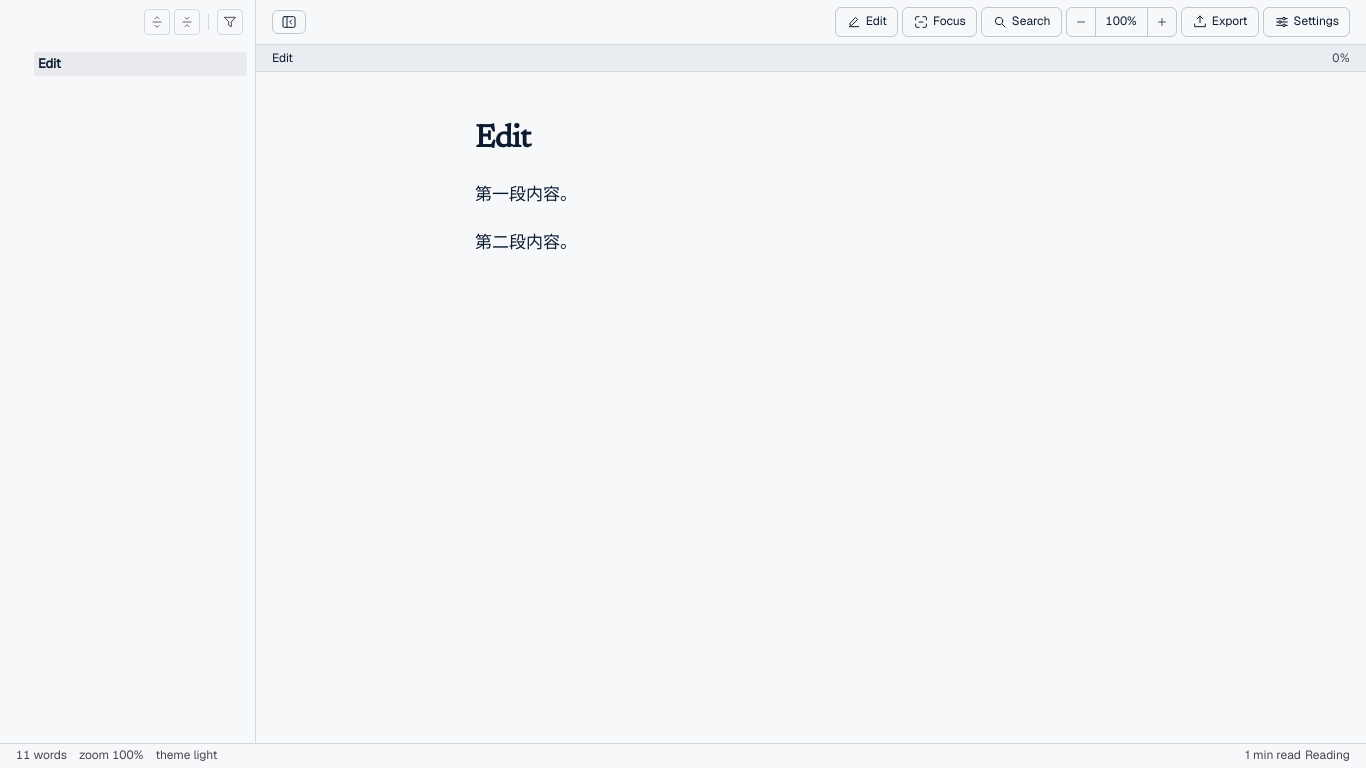
Test case: 编辑手册入口（§7.5） › 活动单元的焦点交给手册：不算离开，不发出提交（§7.4 focusout 是提交）
Later steps or results of the test are not shown.
Click the button with aria-label "Edit mode".
click(866, 22)  # box [835,7,898,37]
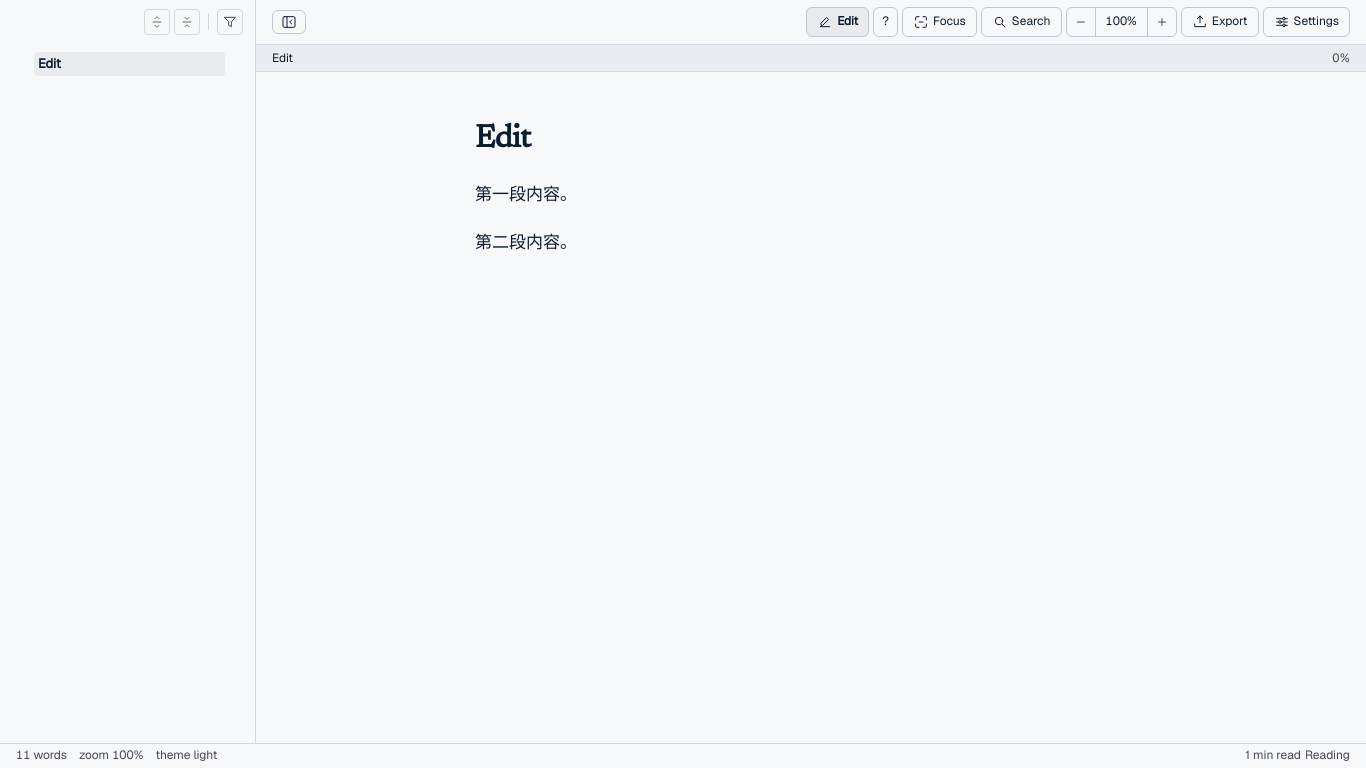
Double-click the text with class "readora-paragraph" showing "第一段内容。".
double_click(526, 194)  # box [475,183,577,205]
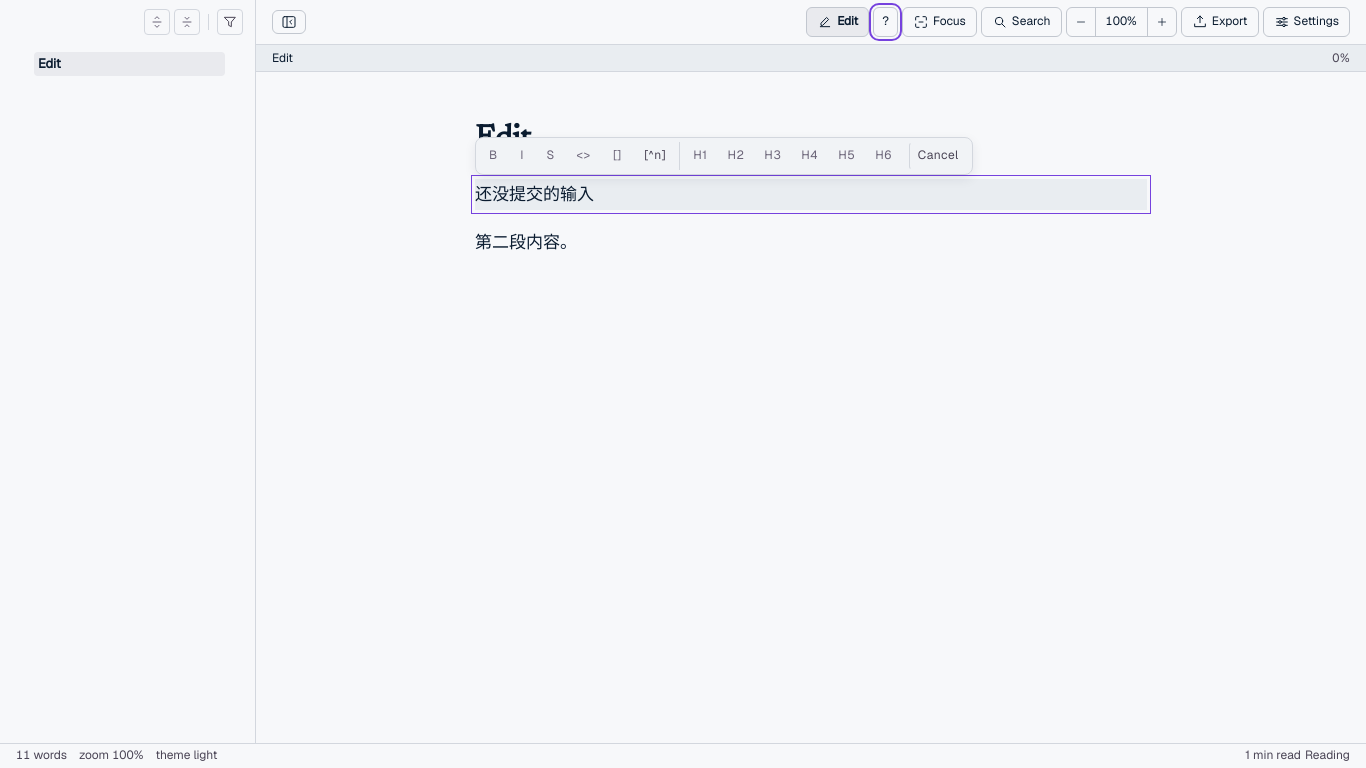
Now the field with class "readora-paragraph" has attribute contenteditable="true", box [475,179,1147,210]
